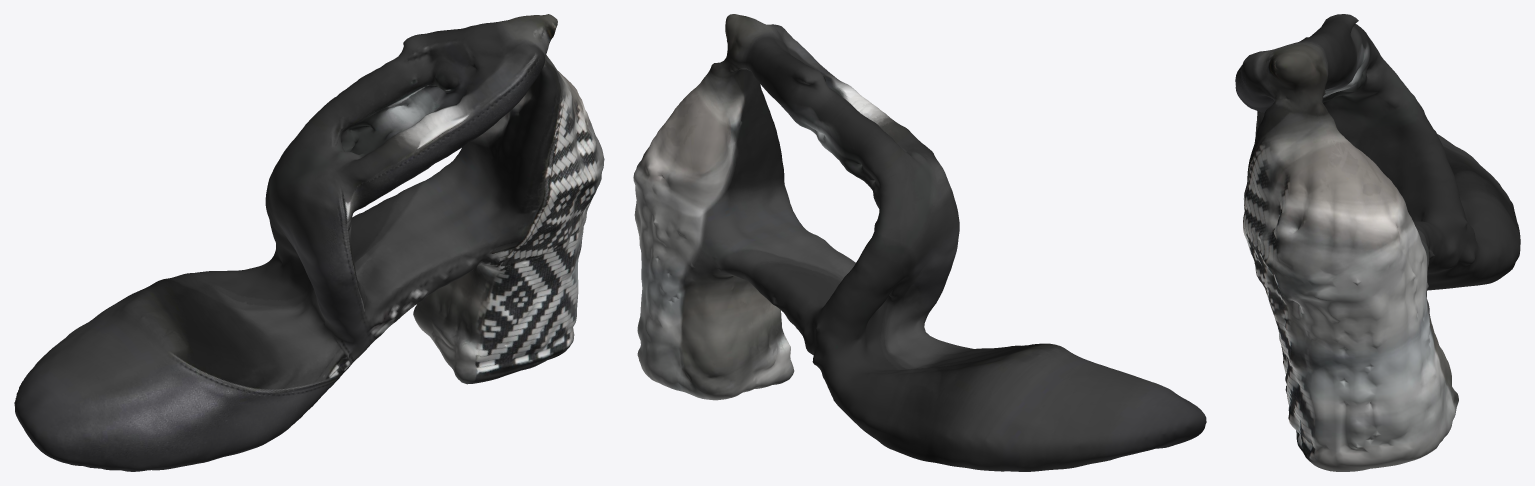
The model's file is art-202.glb.
3 views of the same model, side by side, from view 1: azimuth 30°, elevation 25°; view 2: azimuth 150°, elevation 25°; view 3: azimuth 270°, elevation 25° (orthographic). The views are drawn at different scales.
Parts seen in each view (by area): view 1: geometry_0; view 2: geometry_0; view 3: geometry_0.
Part boxes in pixels (x1,y1,x2,y2): geometry_0: (14, 14, 604, 471); geometry_0: (633, 14, 1206, 471); geometry_0: (1235, 14, 1520, 471).
Size of the model in its own units: 1.05 by 0.6302 by 0.4025.
Materials: 1 (1 with a texture image).
